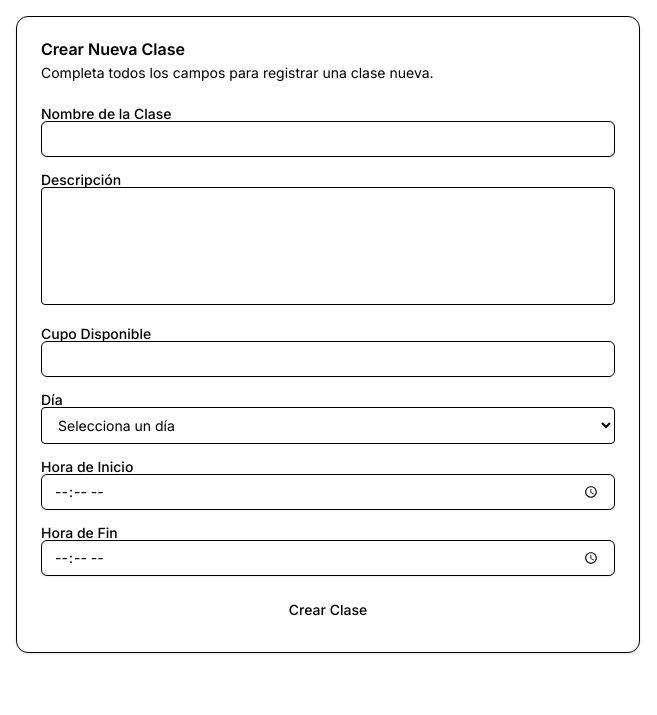
Test case: J-B2 (CWE-209): Mensajes de error internos del servidor › DESPUÉS: mensaje de error genérico, sin filtrar data.message del servidor
In the field labelled "Nombre de la Clase": (328, 139) [41,121,615,157], type "Yoga Avanzado"
In the text box labelled "Descripción": (328, 246) [41,187,615,305], type "Clase para nivel avanzado"
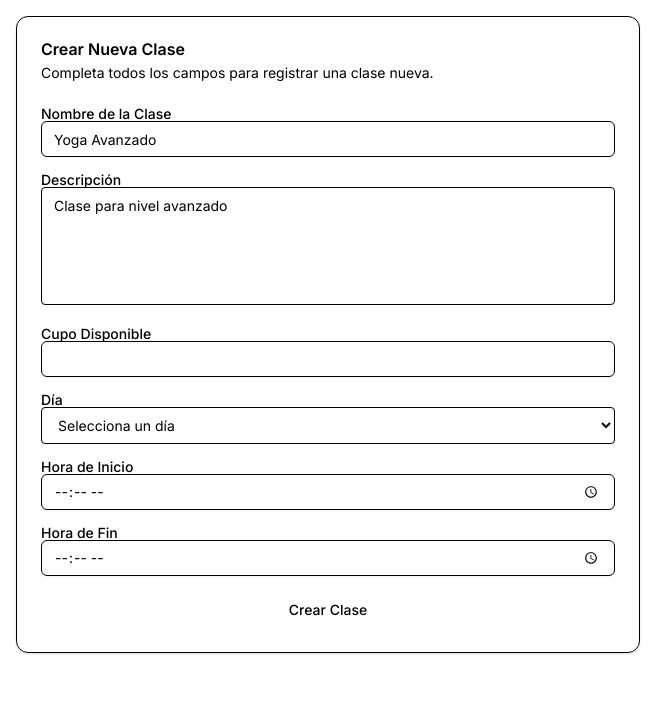
In the number field labelled "Cupo Disponible": (328, 359) [41,341,615,377], type "15"
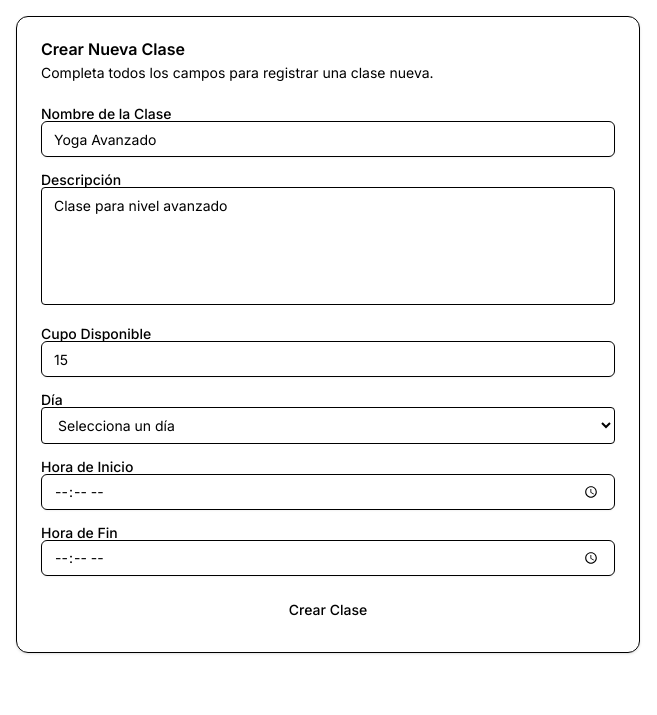
Select "Lunes" in the dropdown labelled "Día": (328, 426) [41,407,615,444]
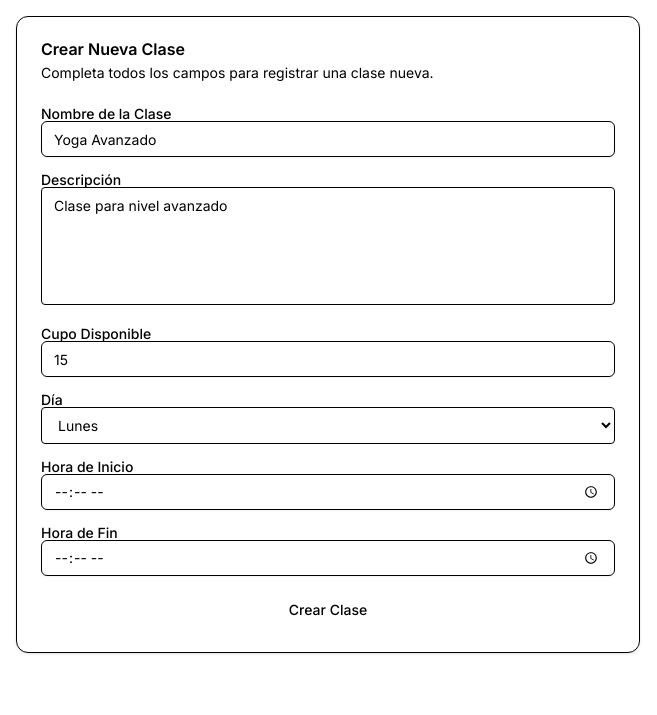
In the time field labelled "Hora de Inicio": (328, 492) [41,474,615,510], type "08:00"
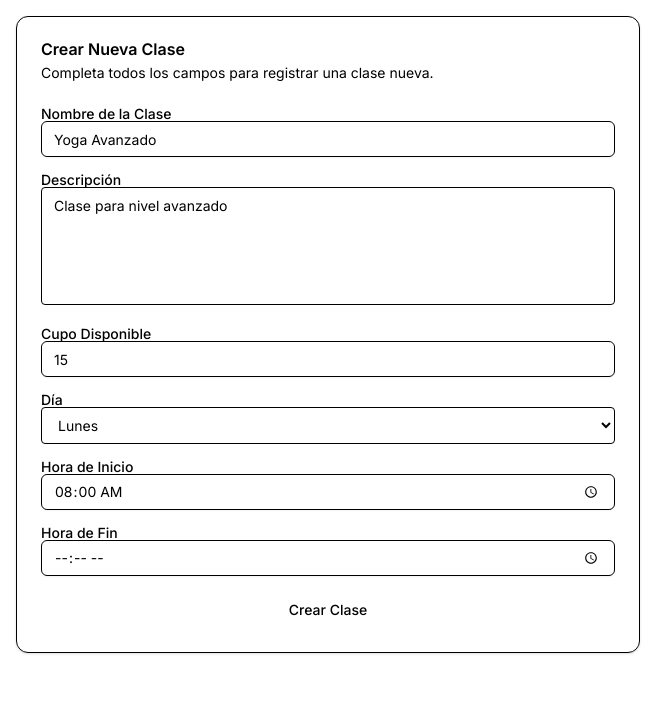
In the time field labelled "Hora de Fin": (328, 558) [41,540,615,576], type "09:00"
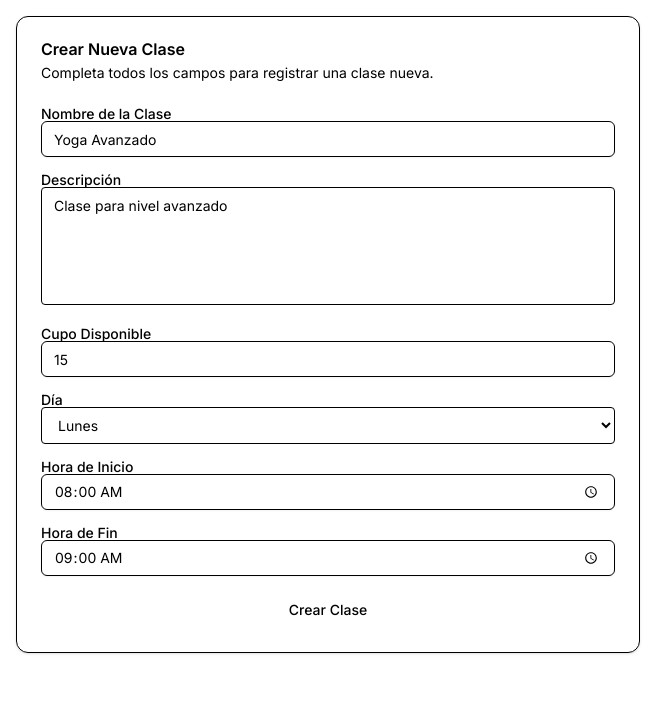
Click the button "Crear Clase": (328, 610) [41,592,615,628]
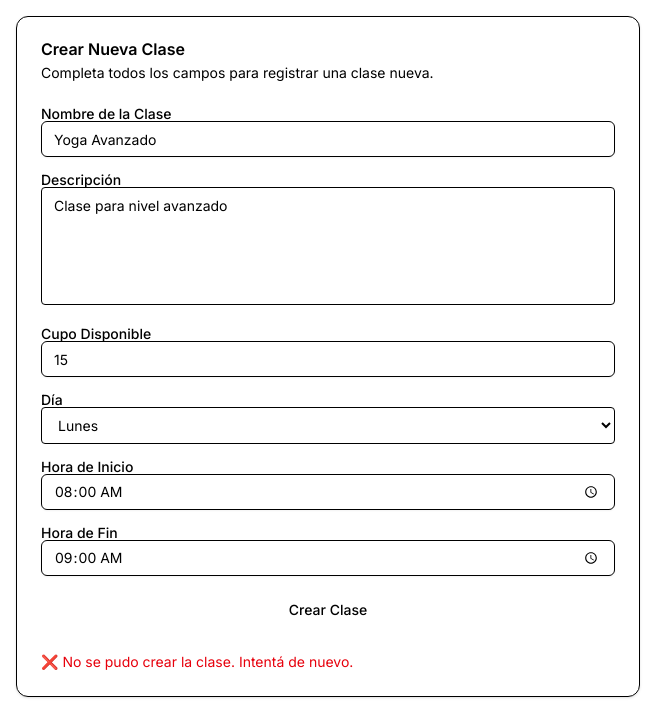
expect the text "❌ No se pudo crear la clase. Intentá de nuevo." is shown: met, box [41,653,353,670]
